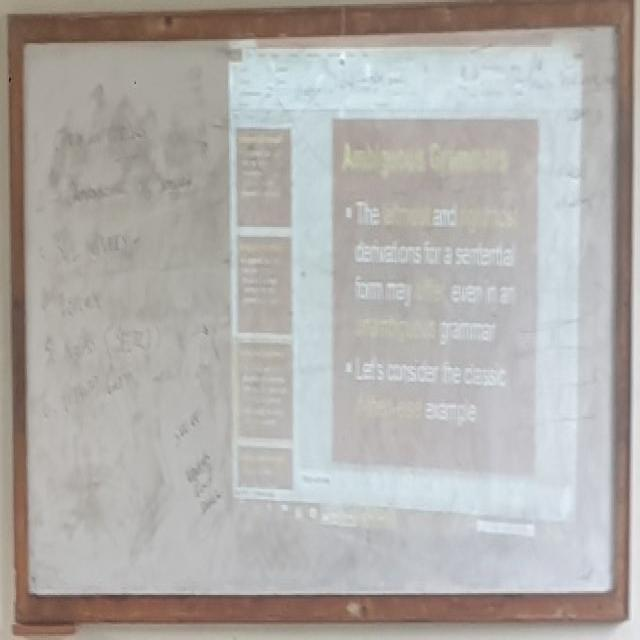Slide: (229, 24, 583, 546)
White-board: (14, 14, 626, 617)
